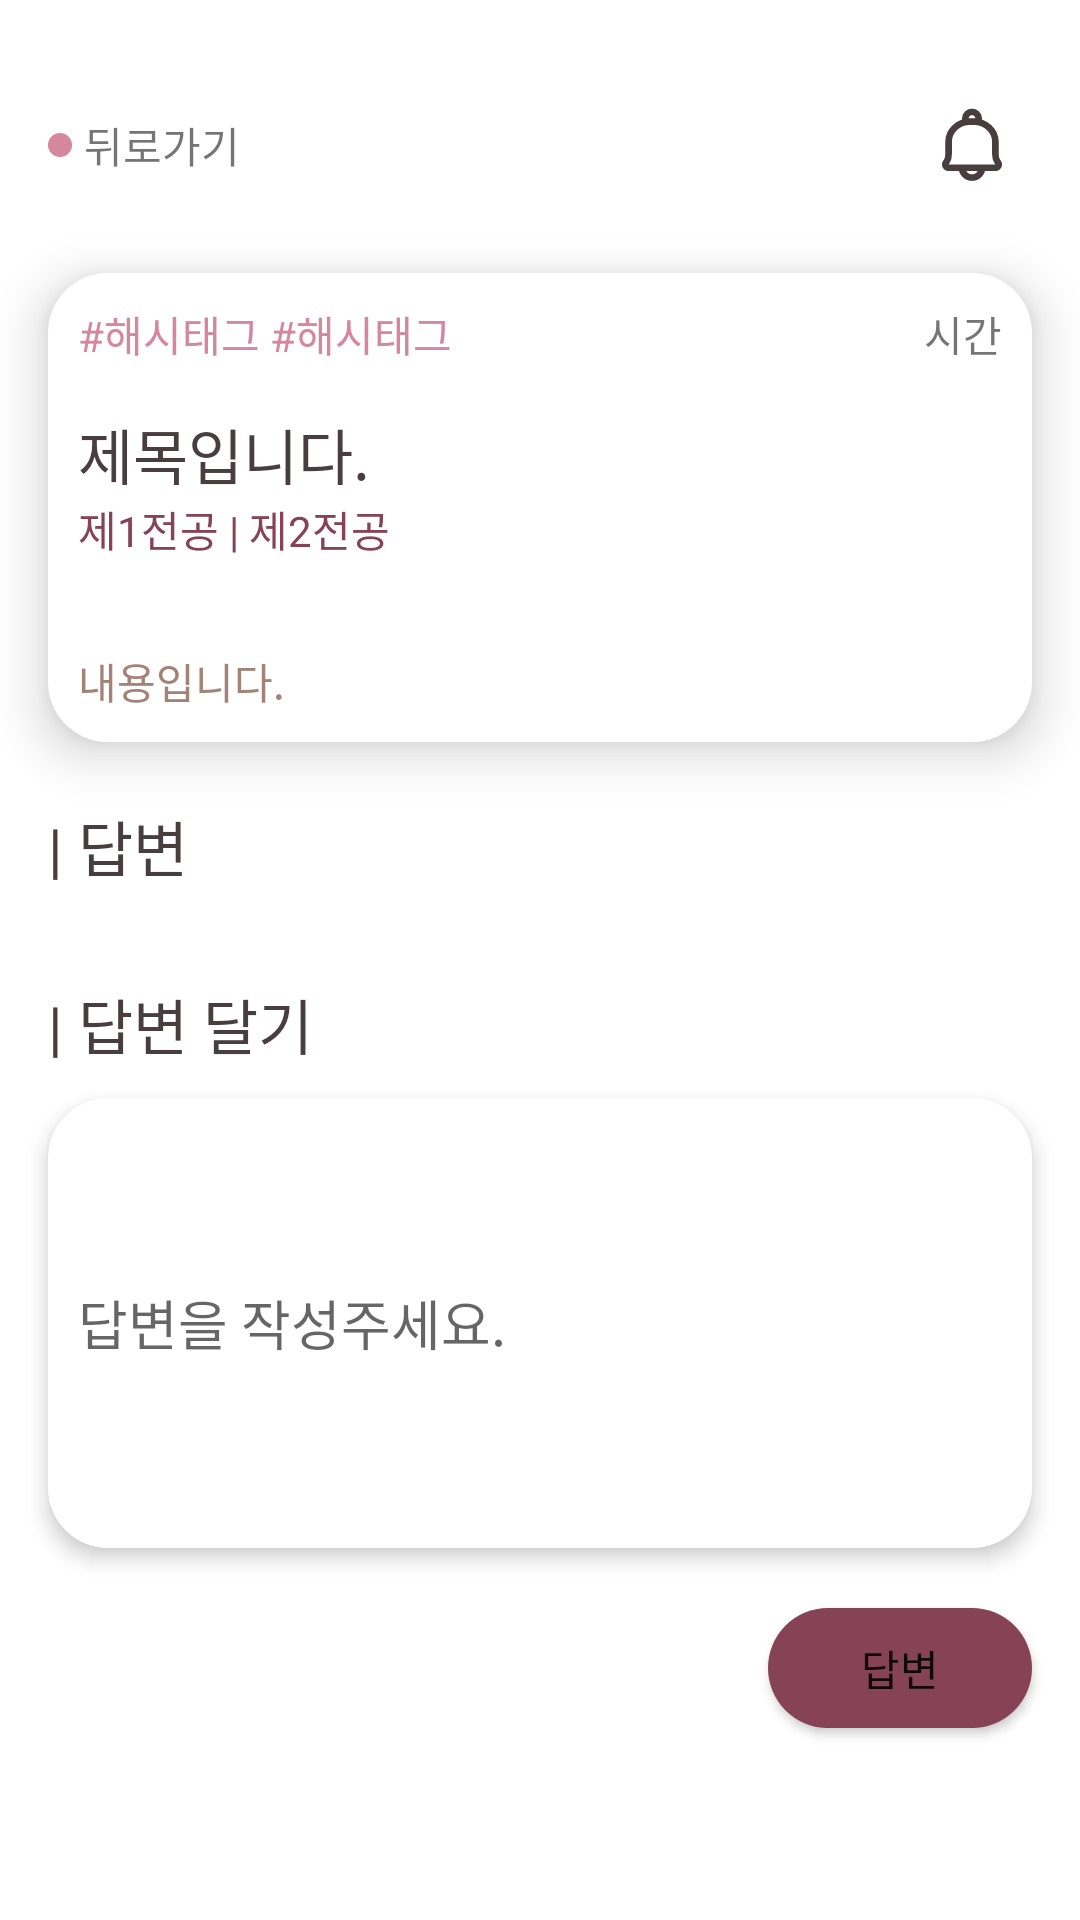

Screen size 1080 × 1920. Icon name, then its box in pixels as (x1, y1, x2, y2):
bell: (942, 108, 1002, 181)
